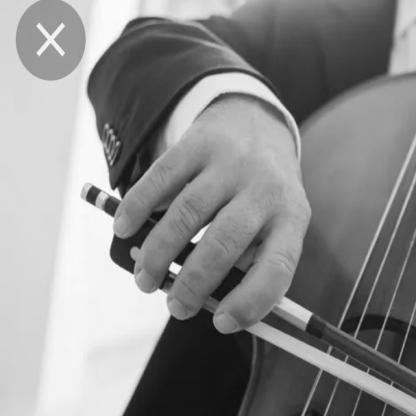good: (104, 75, 320, 328)
